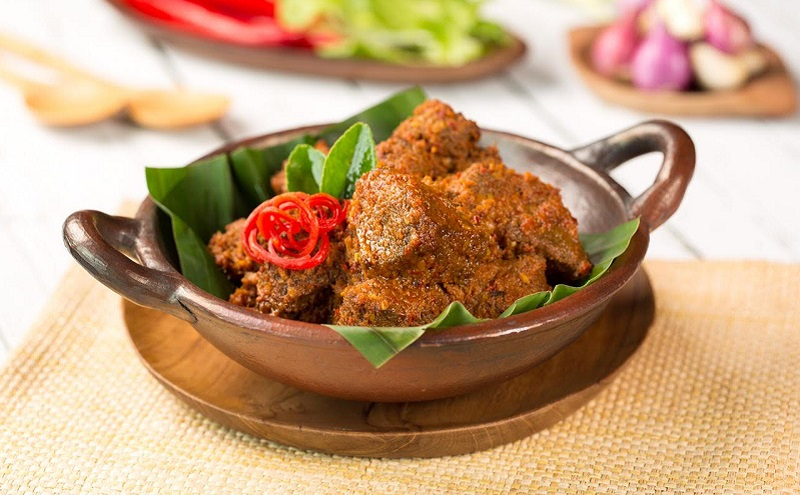rendang: (176, 94, 596, 328)
